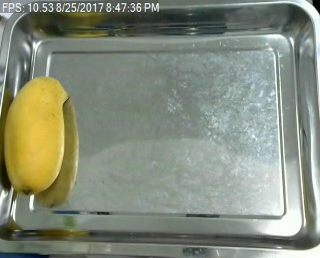Mango: (1, 71, 73, 199)
